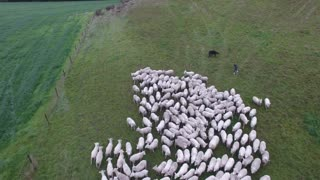sheep: (173, 162, 189, 178), (89, 142, 99, 162), (95, 145, 104, 167), (144, 139, 159, 152), (152, 161, 167, 174), (193, 162, 206, 176), (132, 160, 148, 171), (106, 157, 115, 176), (208, 135, 219, 150), (105, 137, 113, 156), (251, 95, 263, 107), (161, 135, 173, 147), (126, 117, 136, 130), (136, 136, 144, 151), (226, 132, 233, 149), (190, 147, 196, 166), (125, 142, 133, 156), (208, 156, 215, 172), (132, 93, 141, 105), (250, 116, 257, 131), (221, 153, 227, 170), (143, 117, 152, 128), (232, 122, 243, 131), (220, 130, 227, 144), (175, 148, 182, 162), (163, 146, 171, 158), (253, 138, 259, 153), (151, 113, 159, 124), (223, 111, 233, 119), (132, 84, 140, 94), (265, 97, 271, 110), (246, 144, 251, 159)
